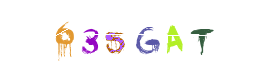3: (74, 0, 154, 80)
5: (81, 0, 161, 80)
6: (40, 0, 120, 80)
A: (133, 0, 213, 80)
G: (95, 0, 175, 80)
T: (161, 0, 241, 80)
